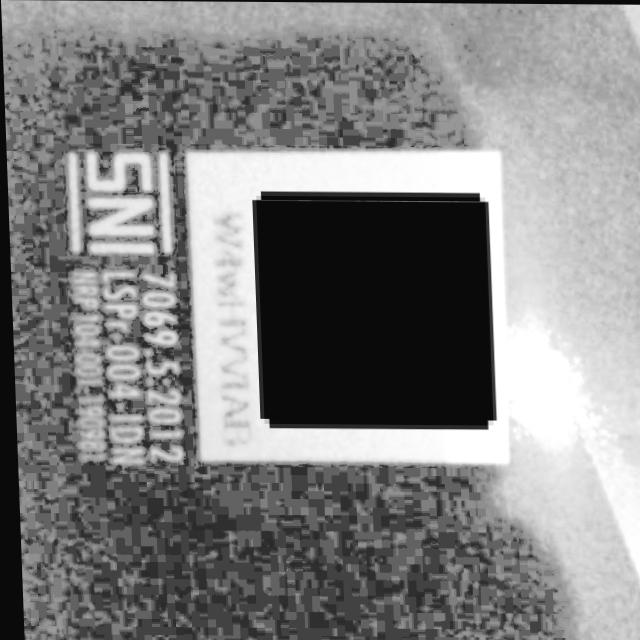qr_code: (254, 195, 489, 425)
